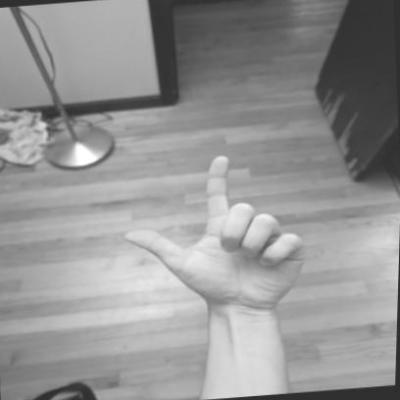hand: (113, 146, 319, 324)
